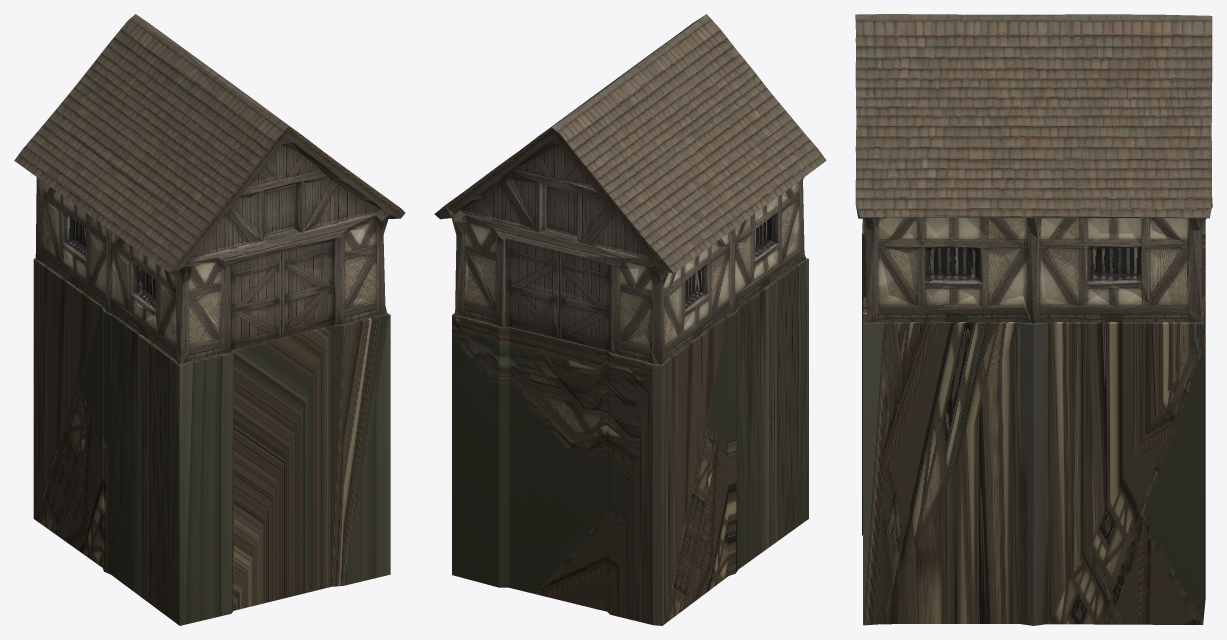
File: barn.glb
3 renders of one model, left to right at view 1: azimuth 30°, elevation 25°; view 2: azimuth 150°, elevation 25°; view 3: azimuth 270°, elevation 25°, orthographic. The views are drawn at different scales.
Parts seen in each view (by area): view 1: barn_export; view 2: barn_export; view 3: barn_export.
Boxes of the visible parts, x1,y1,x2,y2 form: barn_export: (14, 14, 405, 625); barn_export: (434, 14, 826, 625); barn_export: (855, 14, 1212, 625).
Size of the model in its own units: 17.98 by 34.07 by 20.
2 materials, 2 textured.
